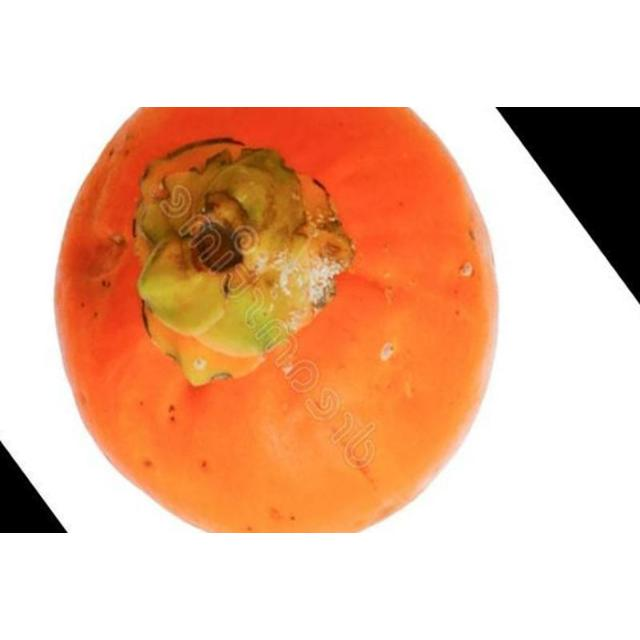good: (52, 107, 502, 533)
